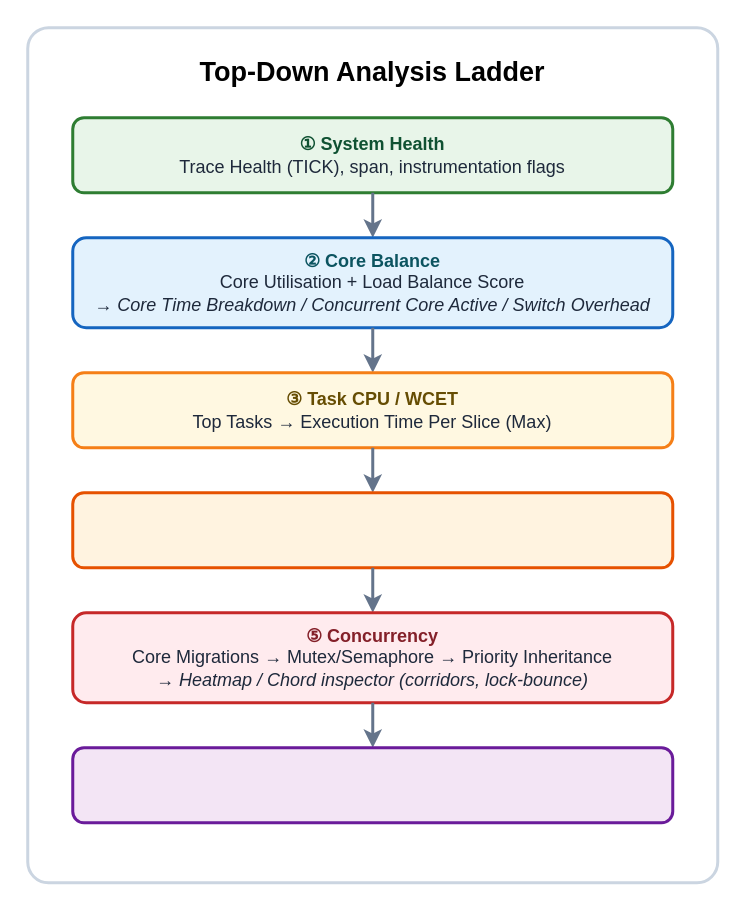
Some shapes in this 744 by 909 pixel diagram are drawn without their labels. The centre of each missing label's shape, as x and y in pixels:
④ Latency Blocking Time → Dispatch Latency → Preemption Chain: pixel 372 529
⑥ Compliance Deadlines / Affinity / Task Lifecycle / Tags / Intervals: pixel 372 785
